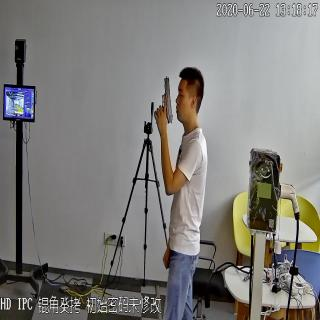gun: (152, 76, 173, 120)
